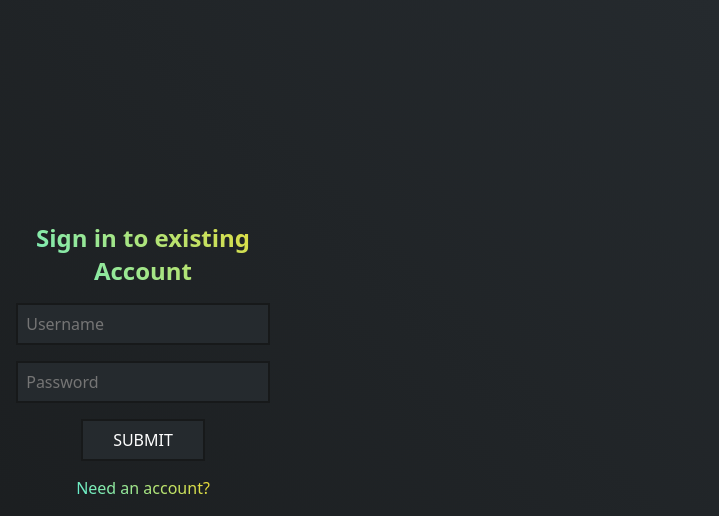
Test: Auth feature component › should toggle new account form on button click
Click the text "Need an account?" at (143, 488), box [76,477,210,499]
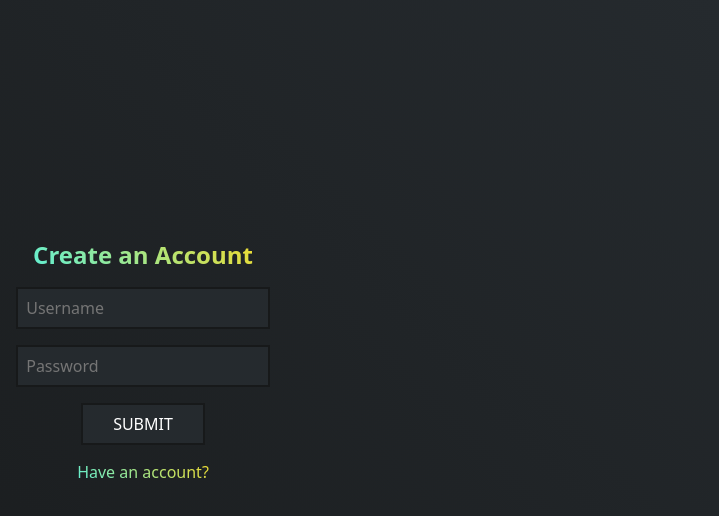
Expected: the field with placeholder "Username" is empty, [16,286,270,328]
Result: the heading "Create an Account" is shown at [33,238,253,270]
